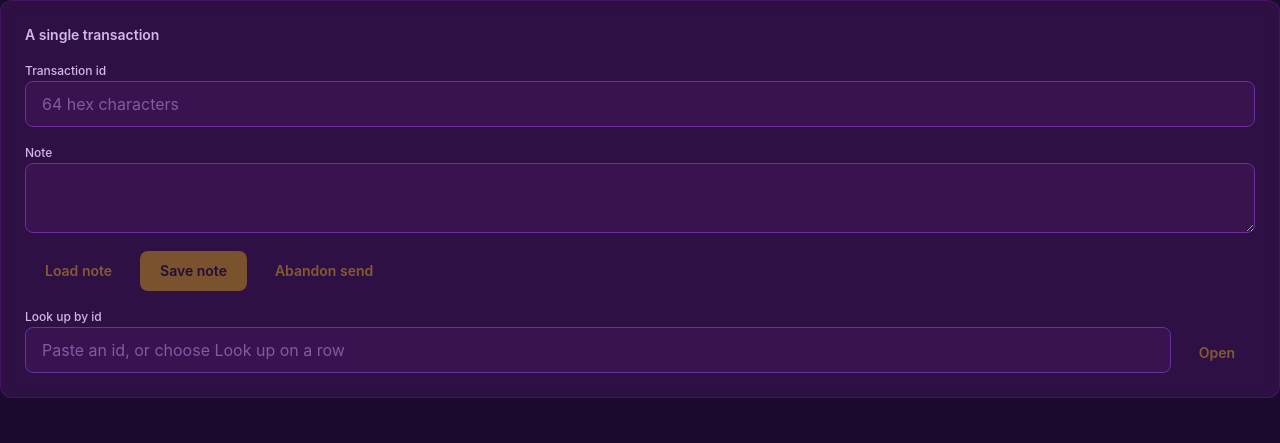
Scenario: TxTools › does not abandon a send until the person confirms
In the field labelled "Transaction id": x=640, y=104 [25, 81, 1255, 127], type "ab"
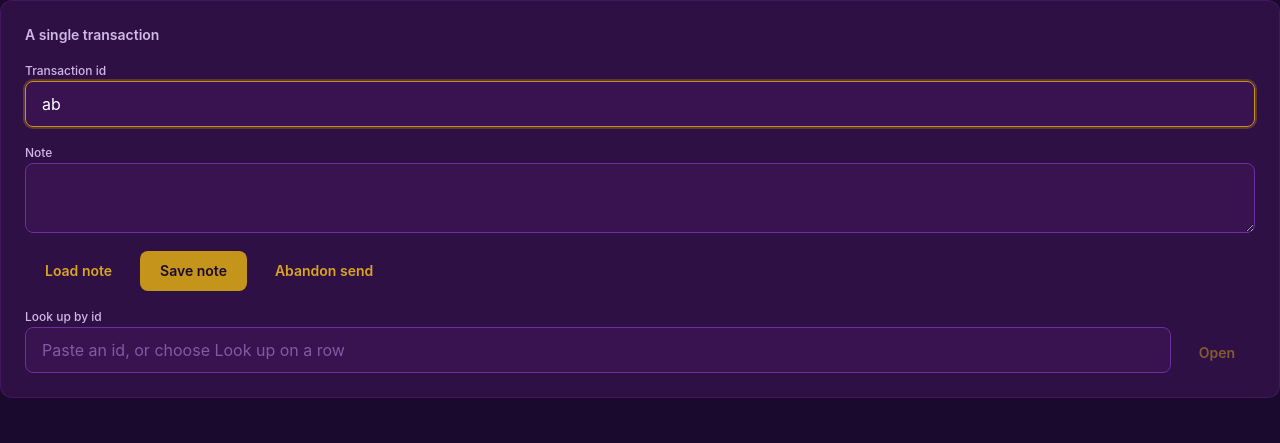
Click the button "Abandon send": x=324, y=271 [255, 251, 393, 291]
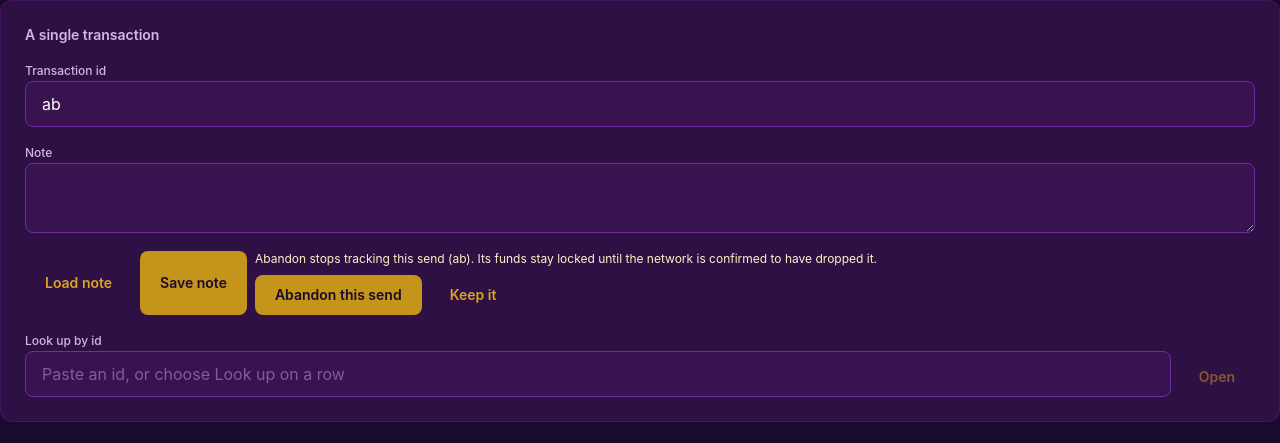
Result: the text "stops tracking this send" is shown at [255, 251, 452, 266]
Click the button "Keep it": x=473, y=295 [430, 275, 516, 315]
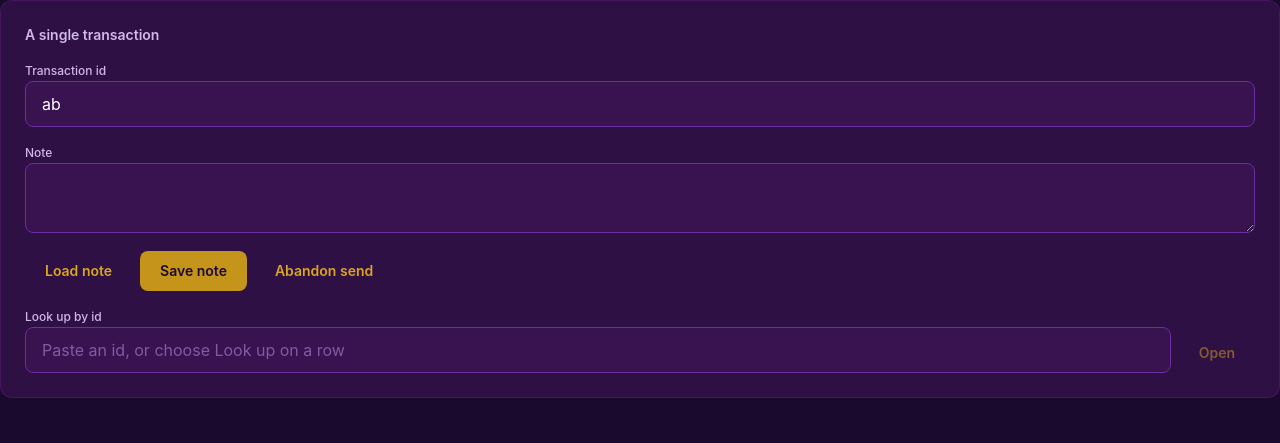
Click the button "Abandon send": x=324, y=271 [255, 251, 393, 291]
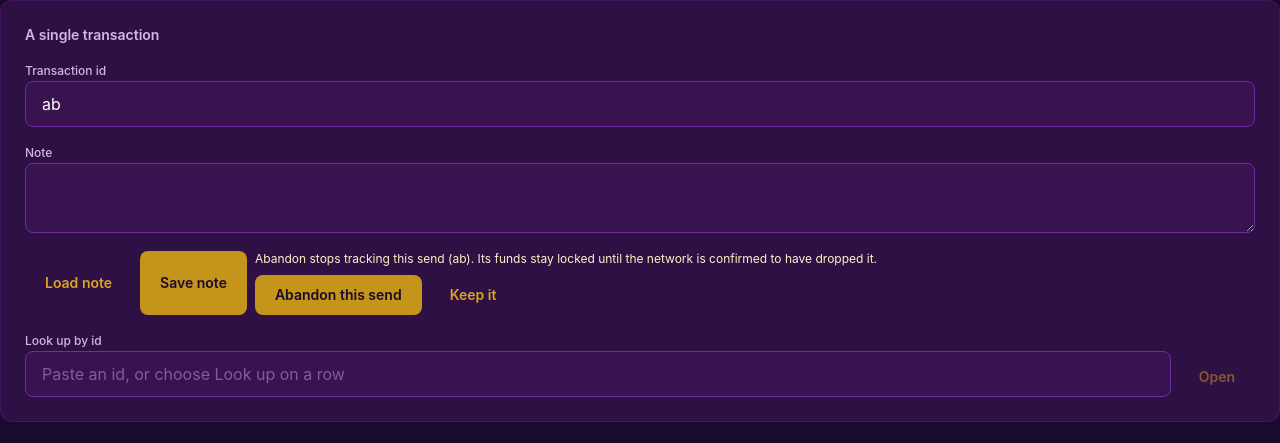
Click the button "Abandon this send": x=338, y=295 [255, 275, 422, 315]
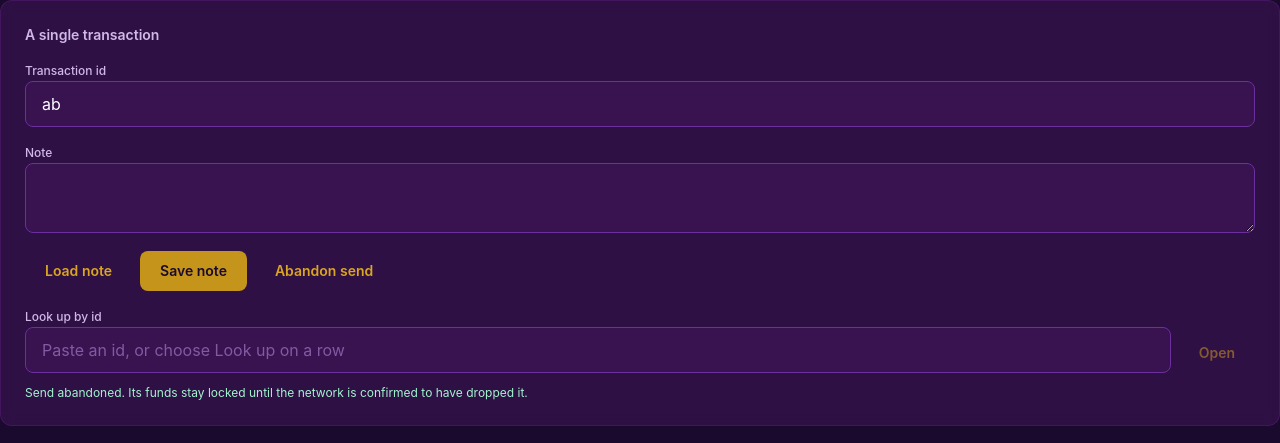
Result: the text "Send abandoned" is shown at [25, 385, 528, 400]
